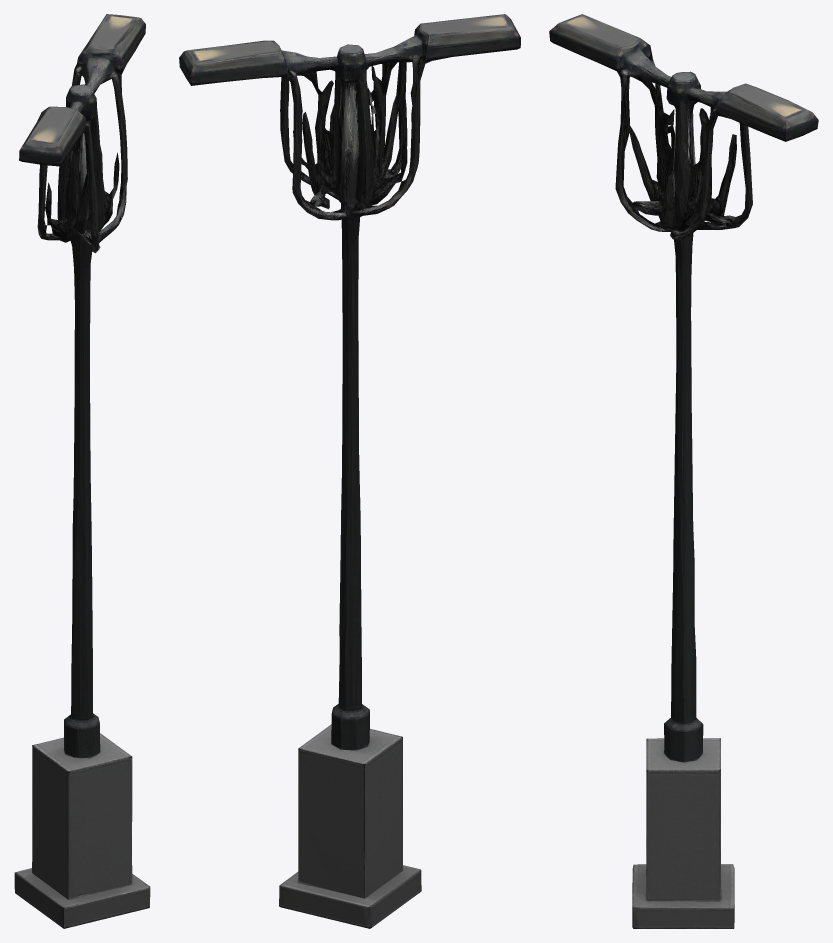
Rendered from street_lamp.glb.
The picture shows the model from 3 angles, left to right: view 1: azimuth 30°, elevation 25°; view 2: azimuth 150°, elevation 25°; view 3: azimuth 270°, elevation 25°; orthographic projection. The views are drawn at different scales.
Parts seen in each view (by area): view 1: world; view 2: world; view 3: world.
Boxes of the visible parts, box(x1,y1,x2,y2) form: world: box(14, 14, 150, 928); world: box(179, 14, 520, 928); world: box(549, 14, 818, 928).
Bounding box in the file's own units: 0.2873 × 0.9972 × 0.2891.
Materials: 1 (1 with a texture image).
